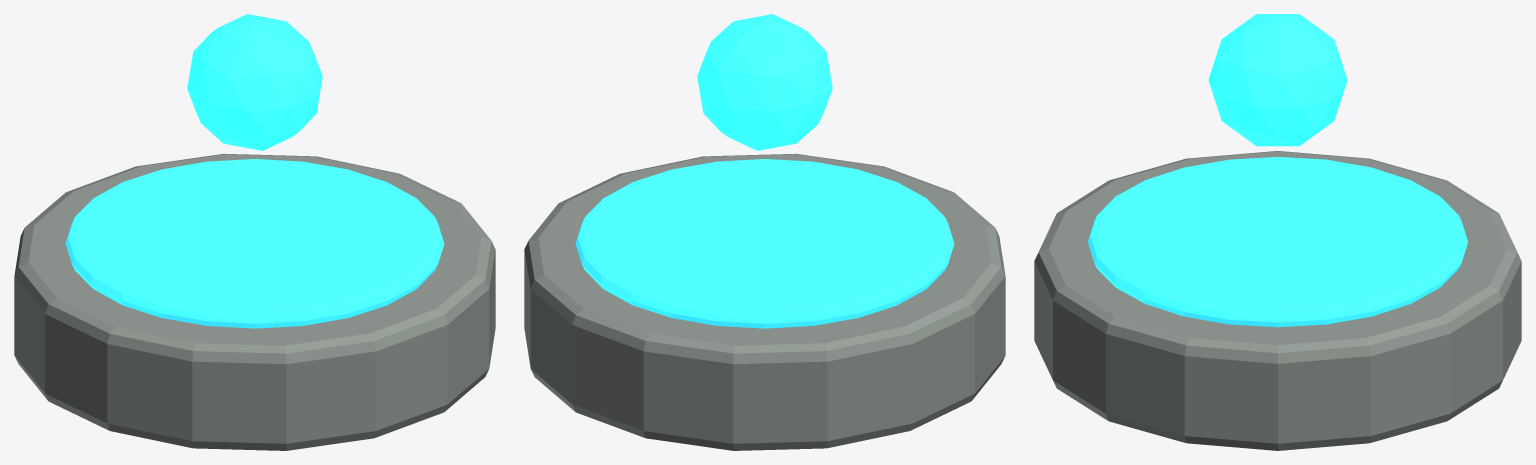
The model's file is Sanctuary-Pool.glb.
The picture shows the model from 3 angles, left to right: view 1: azimuth 30°, elevation 25°; view 2: azimuth 150°, elevation 25°; view 3: azimuth 270°, elevation 25°; orthographic projection.
Parts seen in each view (by area): view 1: Water_Basin.001, Sacred_Water.001, Water_Orb.001; view 2: Water_Basin.001, Sacred_Water.001, Water_Orb.001; view 3: Water_Basin.001, Sacred_Water.001, Water_Orb.001.
Boxes of the visible parts, x1,y1,x2,y2 form: Water_Basin.001: (14, 153, 495, 450); Sacred_Water.001: (65, 159, 444, 328); Water_Orb.001: (187, 14, 322, 150); Water_Basin.001: (524, 153, 1005, 450); Sacred_Water.001: (575, 159, 954, 328); Water_Orb.001: (697, 14, 832, 150); Water_Basin.001: (1034, 151, 1521, 450); Sacred_Water.001: (1088, 157, 1467, 327); Water_Orb.001: (1208, 14, 1347, 146).
Size of the model in its own units: 2.1 by 1.6 by 2.1.
